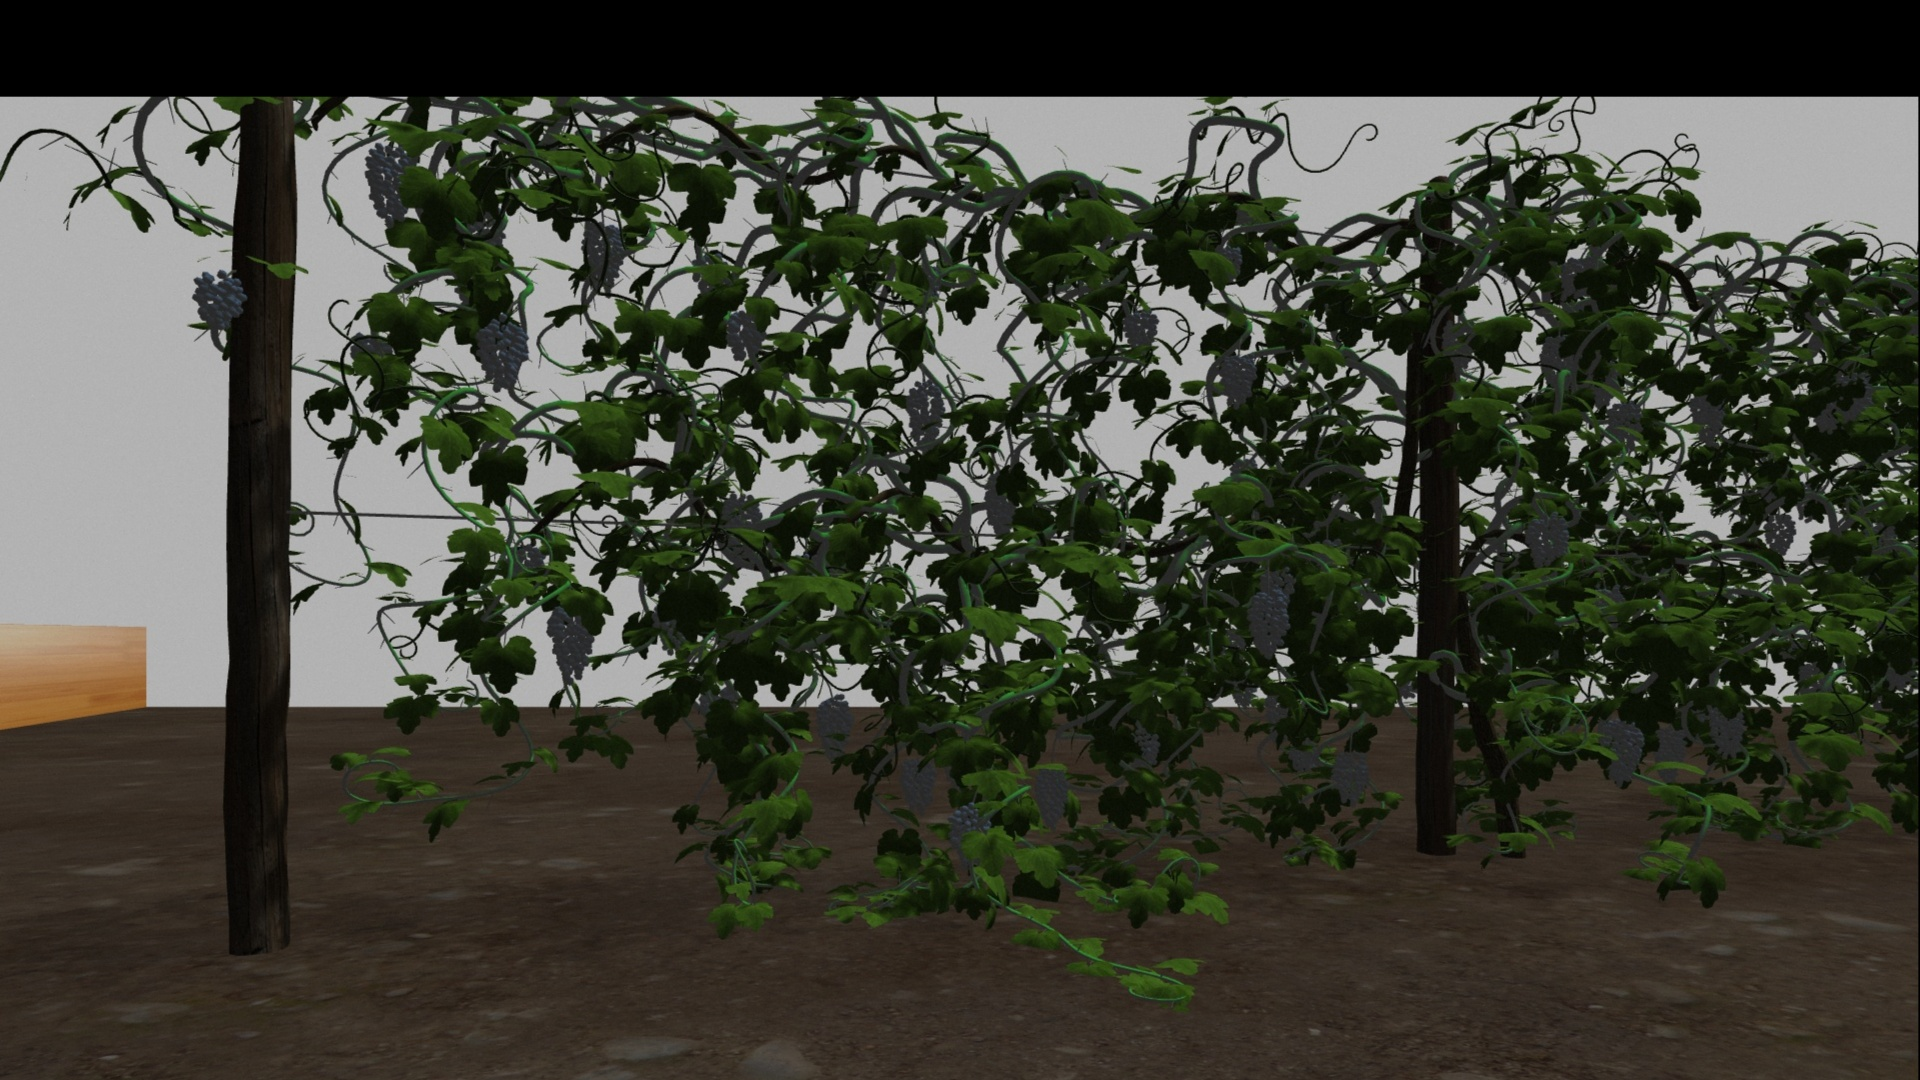grape: (475, 313, 530, 393), (1247, 564, 1295, 658), (365, 140, 413, 225), (546, 605, 596, 680), (580, 218, 625, 299), (191, 265, 247, 328), (1600, 713, 1643, 786), (816, 692, 857, 769), (721, 491, 764, 562), (895, 746, 939, 815), (905, 378, 947, 448), (1522, 510, 1571, 568), (1033, 766, 1069, 833), (723, 310, 766, 364), (982, 473, 1018, 539), (1708, 703, 1749, 760), (1218, 353, 1258, 410), (1122, 298, 1159, 359), (1542, 334, 1578, 393), (1688, 392, 1727, 447), (1331, 749, 1370, 803), (948, 799, 998, 841), (1652, 724, 1688, 783), (1833, 371, 1874, 422), (1121, 717, 1160, 770), (1441, 319, 1476, 372), (1764, 512, 1797, 559), (1607, 400, 1644, 442), (1286, 735, 1324, 773)
